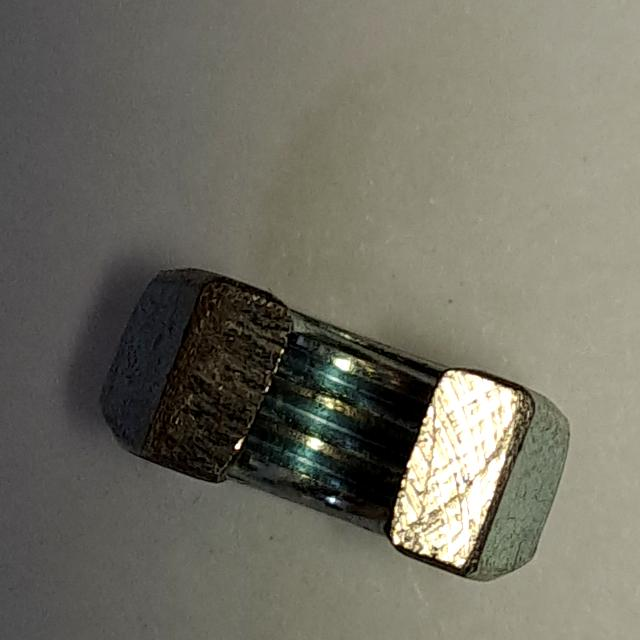Side-Fracture: (92, 253, 581, 595)
